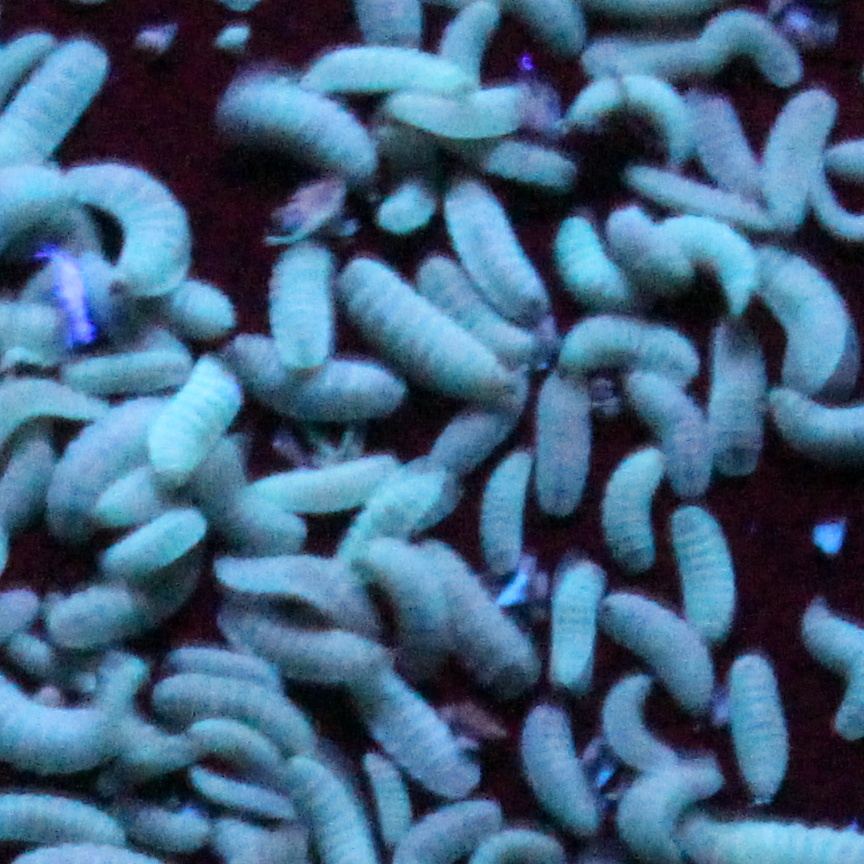larve: (335, 251, 510, 397), (55, 170, 193, 297), (220, 330, 412, 420), (415, 541, 528, 686), (444, 189, 556, 325), (57, 393, 163, 532), (220, 71, 373, 167), (365, 661, 471, 796), (413, 256, 540, 368), (595, 589, 718, 704), (749, 245, 848, 384), (231, 607, 379, 695), (148, 671, 312, 745), (344, 466, 469, 553), (154, 361, 240, 484), (618, 767, 737, 855), (349, 545, 436, 661), (630, 169, 787, 231), (215, 561, 374, 620), (720, 643, 779, 799), (659, 210, 751, 310), (626, 372, 705, 487), (248, 461, 399, 520), (453, 128, 584, 195), (582, 76, 689, 158), (769, 94, 840, 217), (535, 359, 590, 515), (304, 36, 492, 81), (684, 92, 758, 204), (396, 85, 533, 144), (533, 704, 598, 826), (566, 327, 705, 384), (540, 554, 603, 679), (602, 200, 687, 290), (672, 513, 731, 636), (682, 17, 802, 76), (274, 245, 328, 376), (596, 675, 669, 771), (608, 456, 671, 561), (107, 510, 202, 579), (151, 272, 236, 348), (553, 213, 620, 307), (482, 446, 531, 568), (185, 715, 285, 774), (48, 348, 193, 387), (48, 590, 141, 649), (5, 414, 48, 536), (439, 6, 502, 87), (353, 751, 408, 842), (190, 764, 284, 812), (174, 643, 279, 681), (97, 469, 154, 523)
